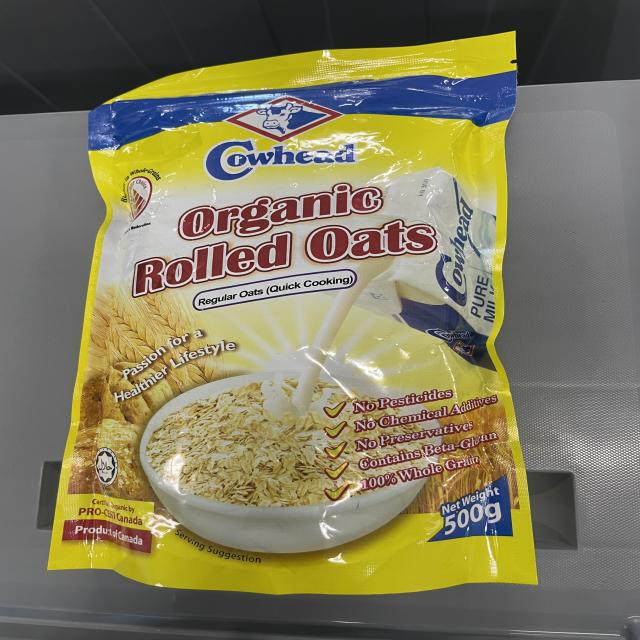object_name: (89, 83, 516, 575)
